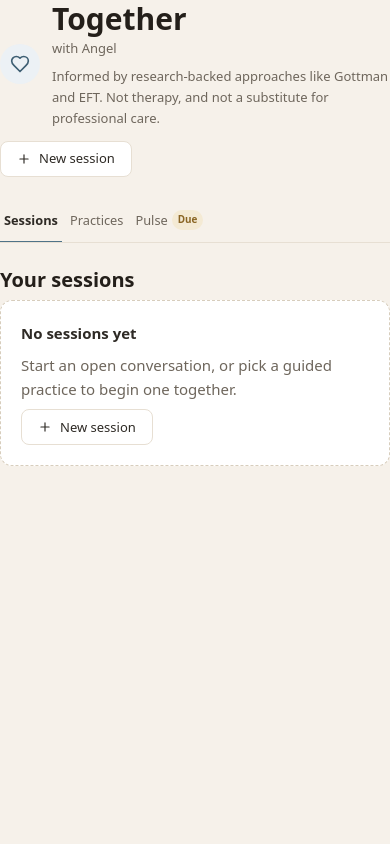
Test: Together home (§3.2) › the "New session" button opens the deliberate start MODAL (no auto-send); Cancel closes it (58 §3.3)
Step 1. Click the button "New session" below "with" → x=66, y=159, box [0,141,132,177]
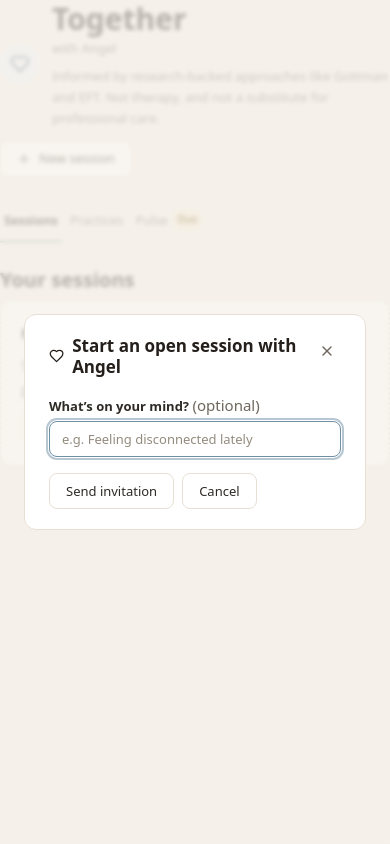
Expected: the heading "Start an open session with Angel" is shown, [49,335,306,377]
Expected: the field labelled "What’s on your mind? (optional)" is shown, [49,421,341,457]
Expected: the button "Send invitation" is shown, [49,473,174,509]
Note: Cancel closes it (a pure no-op).
Step 2. Click the button "Cancel" → x=219, y=491, box [182,473,257,509]
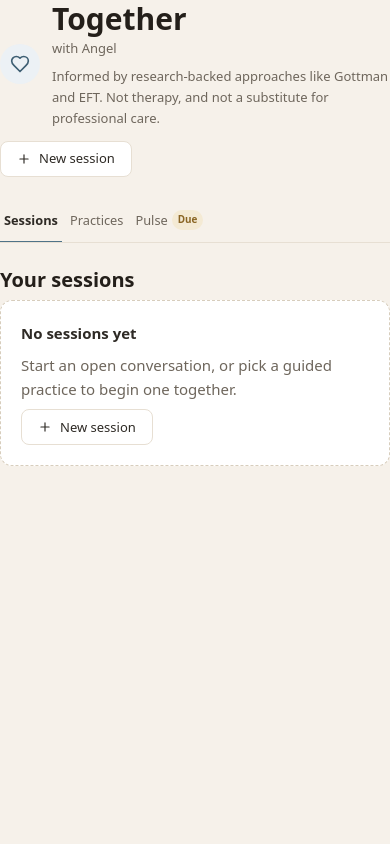
Expected: the dialog is gone
